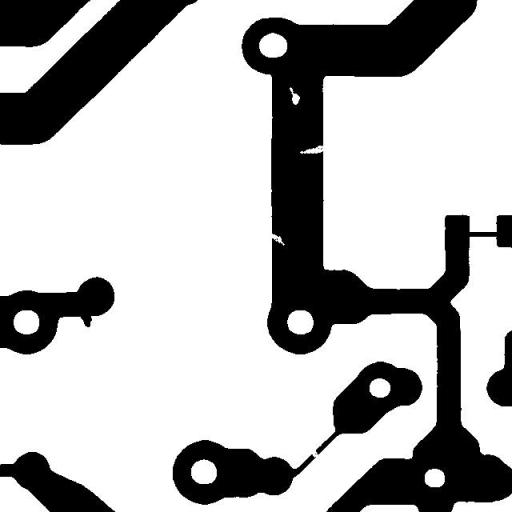mousebite: (292, 138, 332, 160), (261, 226, 292, 252)
open: (304, 440, 326, 466)
pin-hole: (282, 79, 307, 112)
short: (457, 224, 507, 244)
spur: (72, 301, 99, 334)
